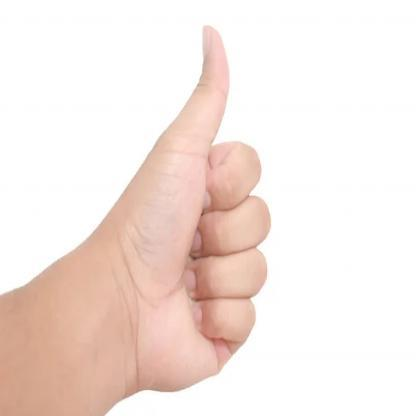thumb_up: (117, 17, 272, 394)
